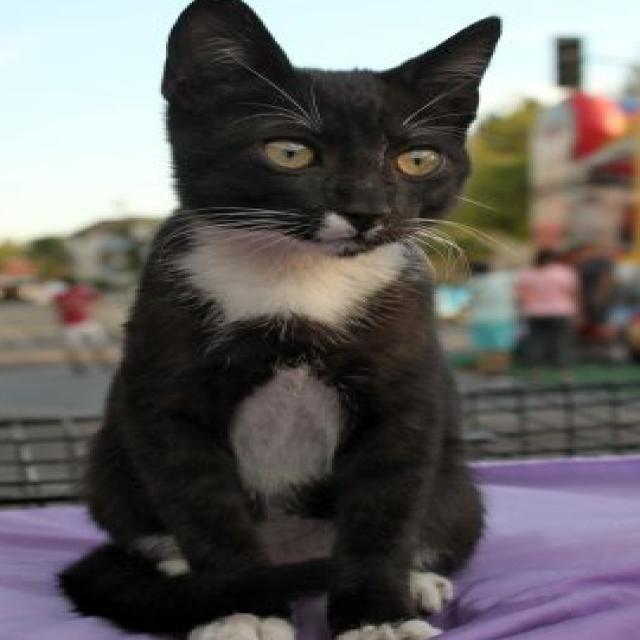Tuxedo: (45, 0, 510, 640)
